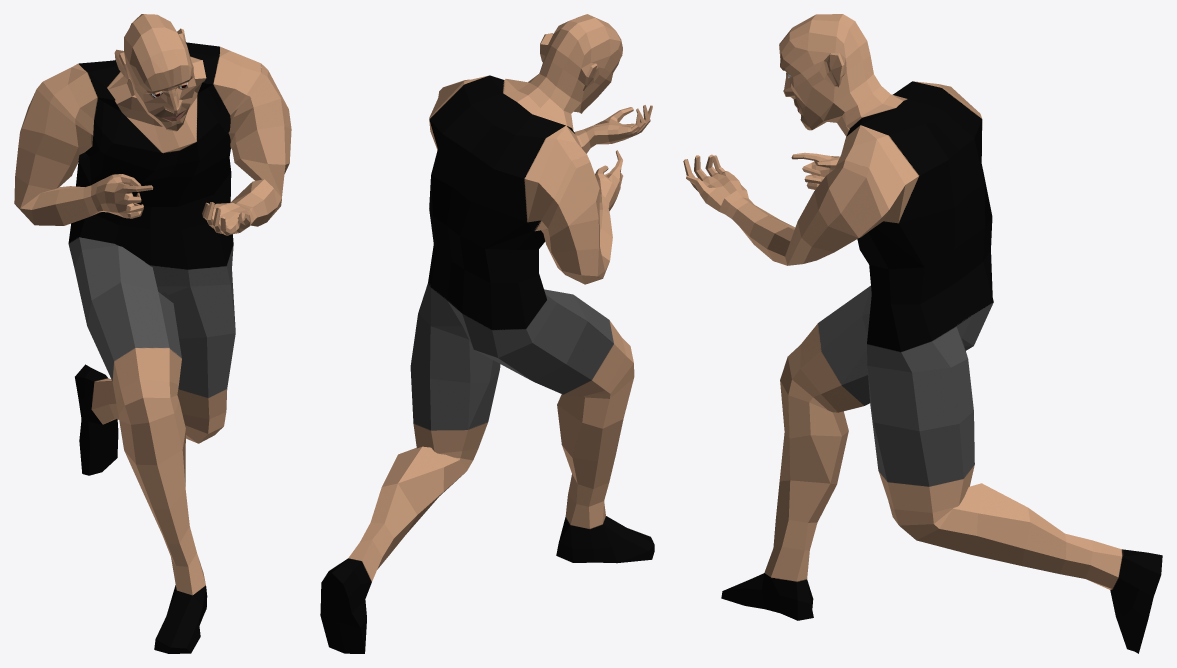
The model's file is PlayerWalk(3).obj.
The picture shows the model from 3 angles, left to right: view 1: azimuth 30°, elevation 25°; view 2: azimuth 150°, elevation 25°; view 3: azimuth 270°, elevation 25°; orthographic projection. The views are drawn at different scales.
Parts seen in each view (by area): view 1: Plane002; view 2: Plane002; view 3: Plane002.
Part boxes in pixels (x1=…): Plane002: x1=14, y1=14, x2=291, y2=653; Plane002: x1=320, y1=14, x2=654, y2=653; Plane002: x1=683, y1=14, x2=1162, y2=653.
Bounding box in the file's own units: 595 × 1536 × 1123.
